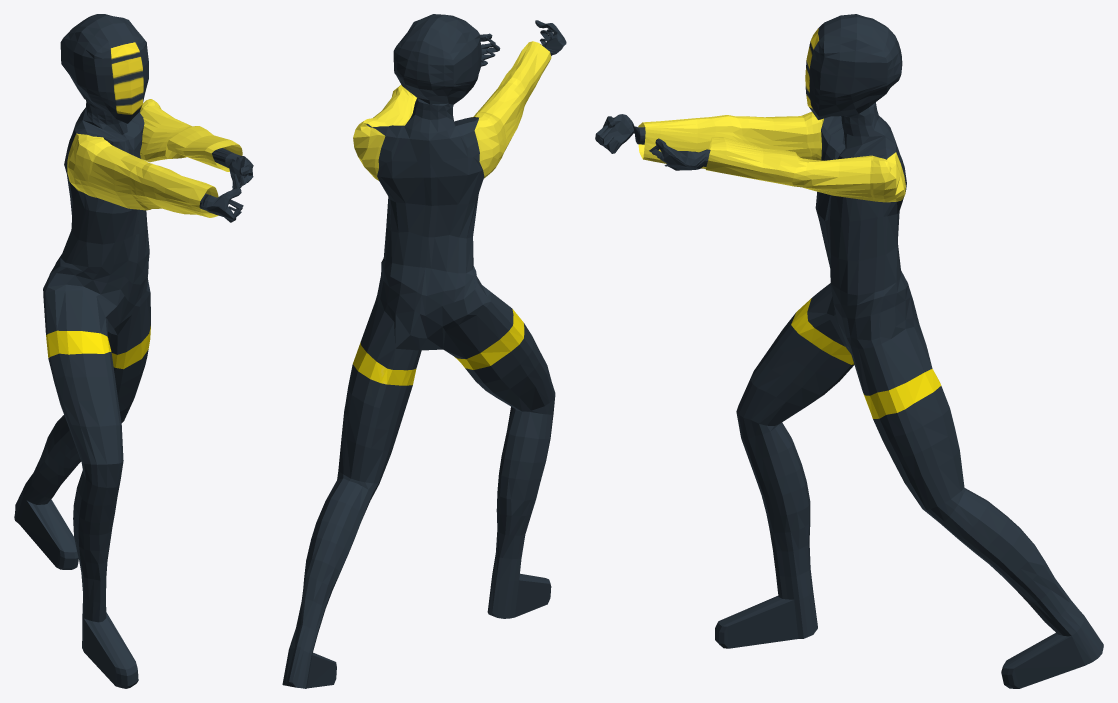
The model's file is Sentry_Attack_000019.obj.
3 renders of one model, left to right at view 1: azimuth 30°, elevation 25°; view 2: azimuth 150°, elevation 25°; view 3: azimuth 270°, elevation 25°, orthographic. The views are drawn at different scales.
Visible parts, largest first — view 1: Cube; view 2: Cube; view 3: Cube.
Boxes of the visible parts, x1=… form: Cube: x1=14, y1=14, x2=253, y2=688; Cube: x1=282, y1=14, x2=566, y2=688; Cube: x1=595, y1=14, x2=1103, y2=688.
Size of the model in its own units: 0.94 by 3.78 by 2.68.
